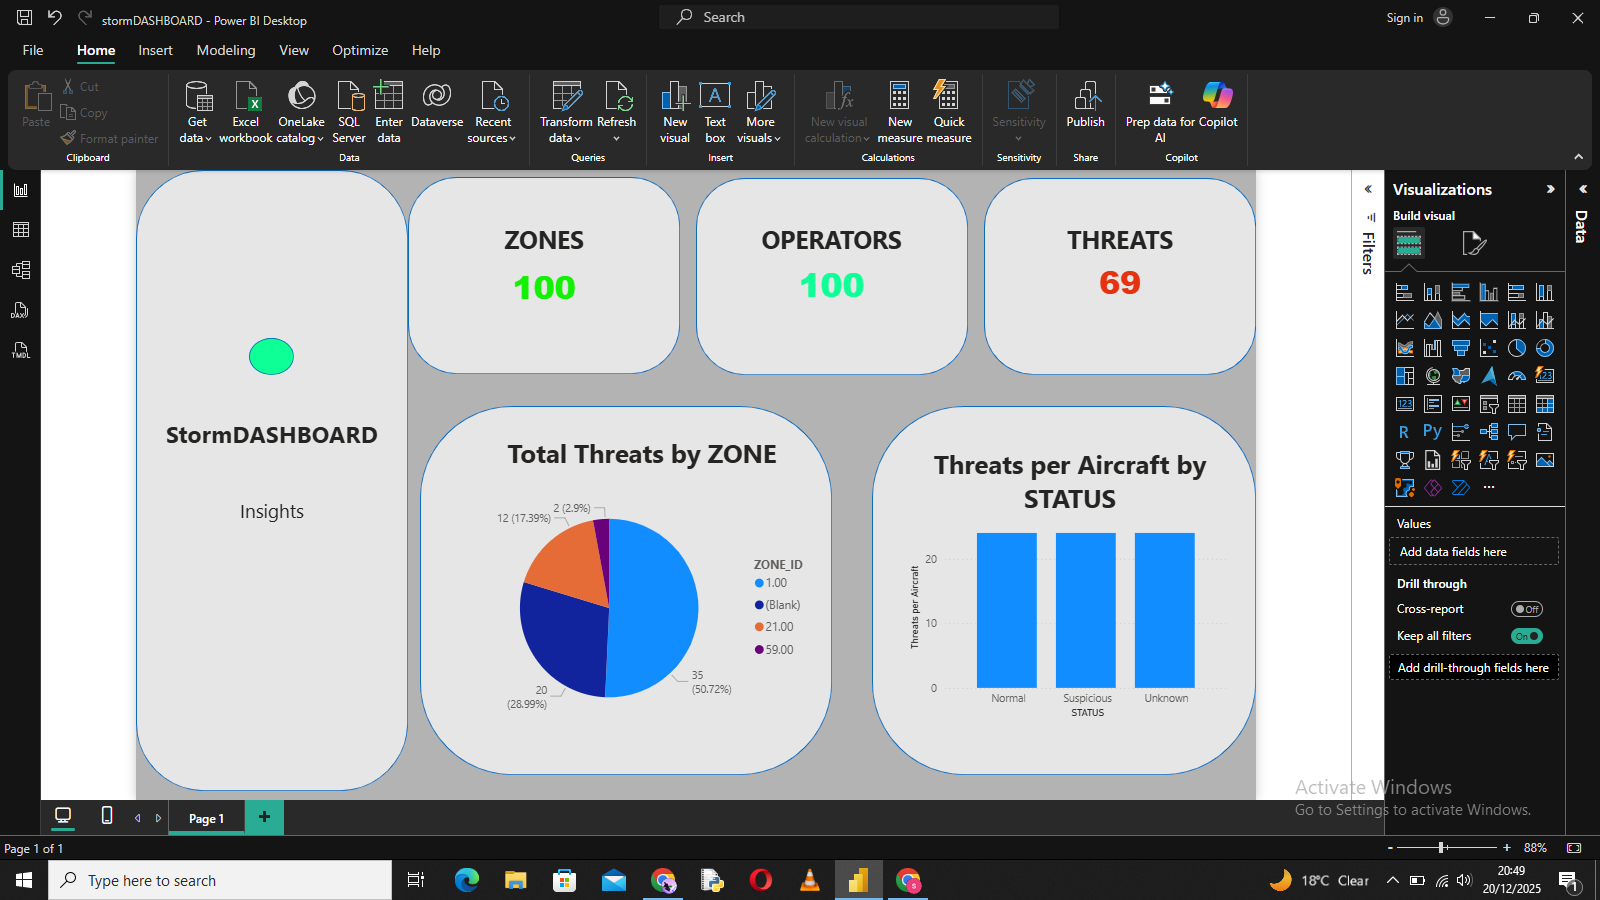

What the dashboard file says about the page in this screenshot:
{"tool":"powerbi","page":{"name":"Page 1","canvas":[1280,720],"ordinal":0},"visuals":[{"type":"shape","box":[0,0,310.9,709.7],"z":0},{"type":"shape","box":[640,9.1,310.9,225.1],"z":1000},{"type":"shape","box":[324.6,269.7,470.9,421.7],"z":2000},{"type":"textbox","box":[12.6,277.7,285.7,49.1],"z":3000},{"type":"textbox","box":[91.4,369.1,128,45.7],"z":4000},{"type":"shape","box":[129.1,192,51.4,42.3],"z":5000},{"type":"shape","box":[969,9,311,224.9],"z":6000},{"type":"card","title":"OPERATORS","fields":{"Values":["Measures (2).Operators"]},"box":[664,60.6,261.7,102.9],"z":7000},{"type":"card","title":"THREATS","fields":{"Values":["Measures (2).Threat"]},"box":[981.7,60.6,285.7,98.3],"z":8000},{"type":"shape","box":[310.9,8,310.9,225.1],"z":9000},{"type":"card","title":"ZONES","fields":{"Values":["Measures (2).Zone"]},"box":[336,60.6,260.6,108.6],"z":10000},{"type":"pieChart","title":"Total Threats by ZONE","fields":{"Y":["Measures (2).Total Threats"],"Category":["ZONE.ZONE_ID"]},"box":[370.3,302.9,416,356.6],"z":10001},{"type":"shape","box":[841.1,269.7,438.9,421.7],"z":10002},{"type":"lineStackedColumnComboChart","fields":{"Category":["AIRCRAFT.STATUS"],"Y":["Measures (2).Threats per Aircraft"]},"box":[880,315.4,374.9,315.4],"z":10003}]}

Visuals, with their boxes on the page's 1280x720 design canvas (x1, y1, x2, y2). These are canvas units, not pixel positions in the 1600x900 screenshot, which may show the page scaled, cropped or inside an application window:
shape: select_region(0, 0, 311, 710)
shape: select_region(640, 9, 951, 234)
shape: select_region(325, 270, 796, 691)
textbox: select_region(13, 278, 298, 327)
textbox: select_region(91, 369, 219, 415)
shape: select_region(129, 192, 180, 234)
shape: select_region(969, 9, 1280, 234)
"OPERATORS" card: select_region(664, 61, 926, 164)
"THREATS" card: select_region(982, 61, 1267, 159)
shape: select_region(311, 8, 622, 233)
"ZONES" card: select_region(336, 61, 597, 169)
"Total Threats by ZONE" pieChart: select_region(370, 303, 786, 660)
shape: select_region(841, 270, 1280, 691)
lineStackedColumnComboChart - AIRCRAFT.STATUS x Measures (2).Threats per Aircraft: select_region(880, 315, 1255, 631)
